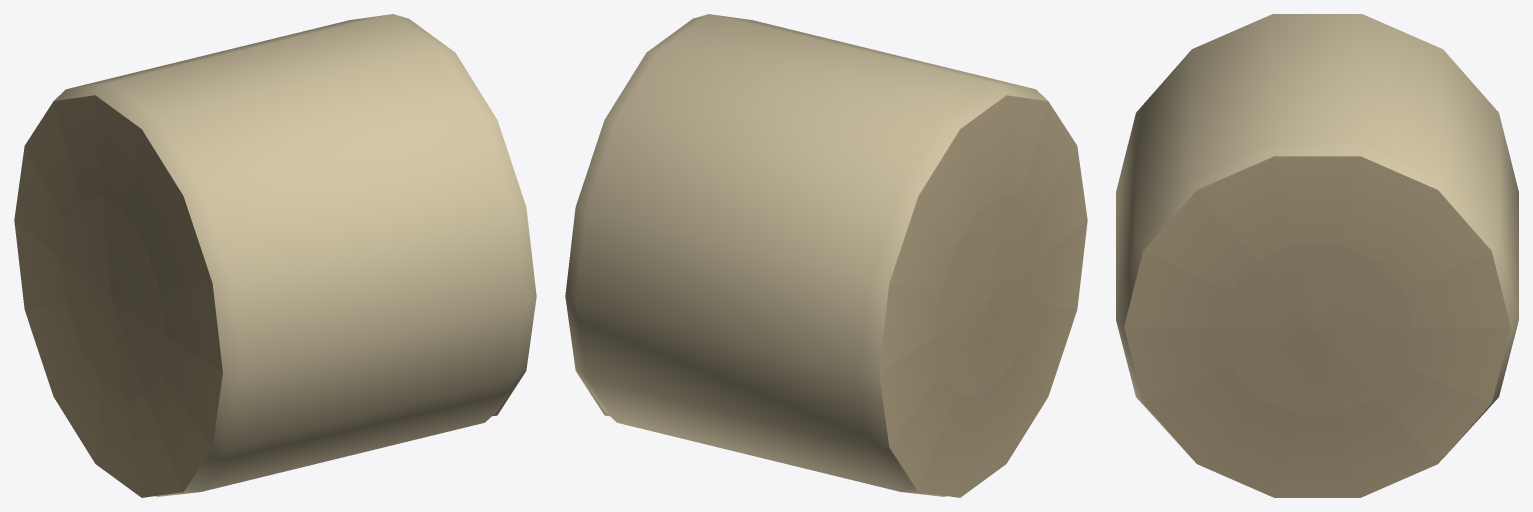
Rendered from SM_BM_BVV_HayRoll.glb.
3 renders of one model, left to right at view 1: azimuth 30°, elevation 25°; view 2: azimuth 150°, elevation 25°; view 3: azimuth 270°, elevation 25°, orthographic. The views are drawn at different scales.
Visible parts, largest first — view 1: SM_BM_BVV_HayRoll; view 2: SM_BM_BVV_HayRoll; view 3: SM_BM_BVV_HayRoll.
Part boxes in pixels (x1=…): SM_BM_BVV_HayRoll: x1=14, y1=14, x2=536, y2=497; SM_BM_BVV_HayRoll: x1=565, y1=14, x2=1087, y2=497; SM_BM_BVV_HayRoll: x1=1116, y1=14, x2=1518, y2=497.
Size of the model in its own units: 1.31 by 1.44 by 1.5.
